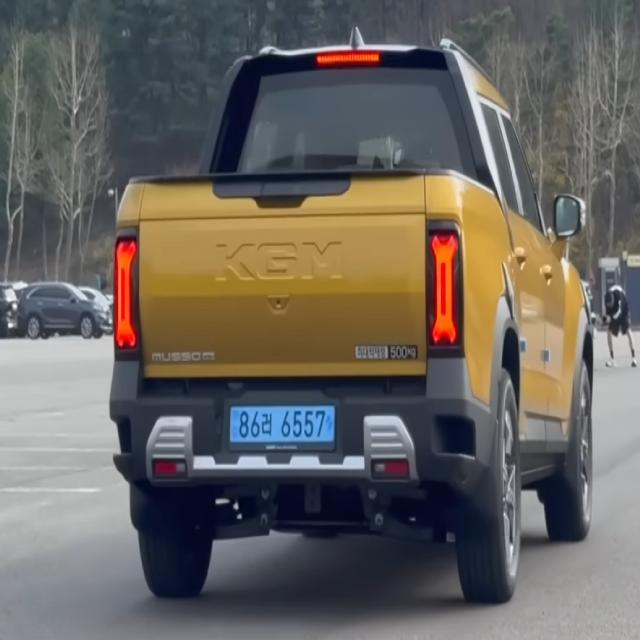car: (208, 392, 358, 468)
carev: (325, 402, 341, 447), (227, 401, 240, 447)
